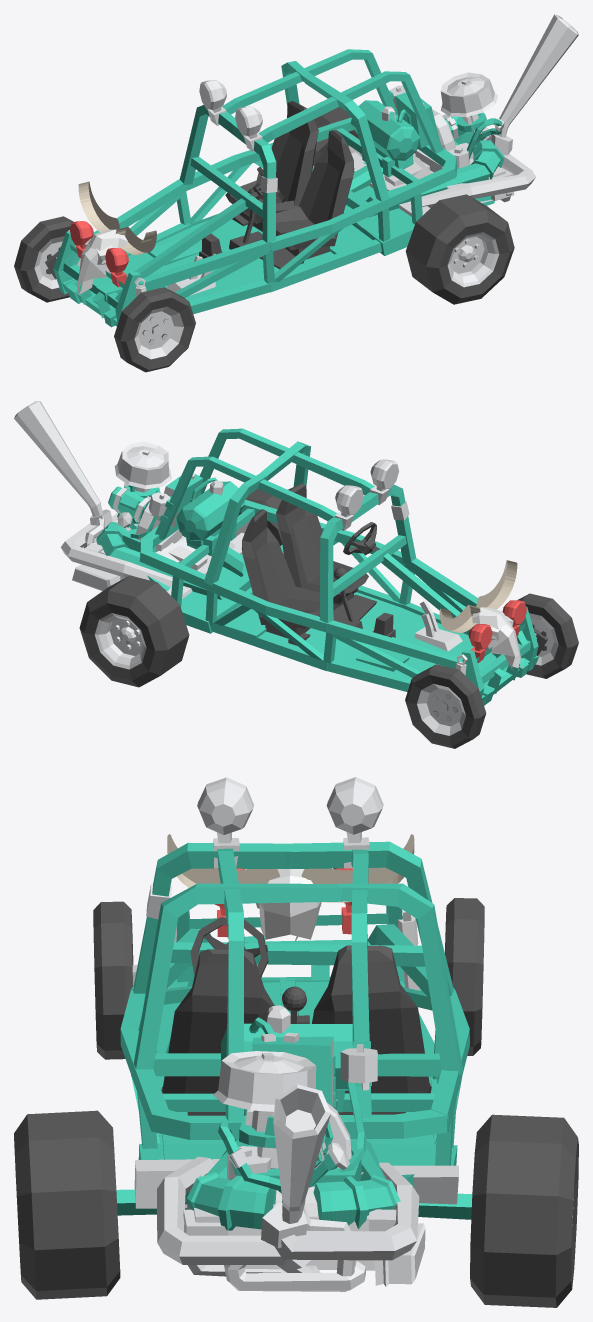
The model's file is kaeferkraft.glb.
3 renders of one model, top to bottom at view 1: azimuth 30°, elevation 25°; view 2: azimuth 150°, elevation 25°; view 3: azimuth 270°, elevation 25°, orthographic. The views are drawn at different scales.
Visible parts, largest first — view 1: group1351783712, group228842624, group552694142, group1586929722, group407306559, group610141389, group35187853, group1345467828, group1522625764, group1384551819, group237616497, group195980357 (+26 smaller); view 2: group1351783712, group1863958756, group35187853, group407306559, group1345467828, group1586929722, group552694142, group683697160, group1384551819, group237616497, group195980357, group1522625764 (+28 smaller); view 3: group1351783712, group1863958756, group228842624, group237616497, group1384551819, group407306559, group1586929722, group610141389, group552694142, group35187853, group1522625764, group195980357 (+20 smaller).
Boxes of the visible parts, box(x1,y1,x2,y2) form: group1351783712: box(350, 14, 578, 217); group228842624: box(405, 194, 514, 304); group552694142: box(114, 287, 195, 372); group1586929722: box(261, 130, 354, 258); group407306559: box(225, 101, 318, 231); group610141389: box(270, 145, 457, 251); group35187853: box(14, 216, 80, 302); group1345467828: box(73, 219, 333, 308); group1522625764: box(258, 71, 443, 153); group1384551819: box(179, 105, 276, 245); group237616497: box(281, 61, 389, 201); group195980357: box(222, 49, 397, 115); group1351783712: box(14, 401, 247, 599); group1863958756: box(79, 575, 189, 687); group35187853: box(405, 664, 486, 748); group407306559: box(241, 509, 319, 638); group1345467828: box(258, 592, 508, 685); group1586929722: box(276, 483, 368, 610); group552694142: box(517, 593, 578, 678); group683697160: box(139, 551, 328, 632); group1384551819: box(319, 484, 416, 623); group237616497: box(204, 441, 310, 585); group195980357: box(155, 456, 337, 539); group1522625764: box(199, 428, 374, 495); group1351783712: box(157, 1044, 425, 1291); group1863958756: box(470, 1114, 578, 1307); group228842624: box(14, 1110, 120, 1299); group237616497: box(133, 883, 462, 1074); group1384551819: box(133, 841, 453, 995); group407306559: box(312, 945, 431, 1114); group1586929722: box(161, 949, 274, 1115); group610141389: box(120, 989, 448, 1139); group552694142: box(93, 901, 133, 1059); group35187853: box(445, 898, 484, 1055); group1522625764: box(217, 848, 244, 1121); group195980357: box(351, 849, 371, 1117).
Bounding box in the file's own units: 3.58 × 1.39 × 1.88.
